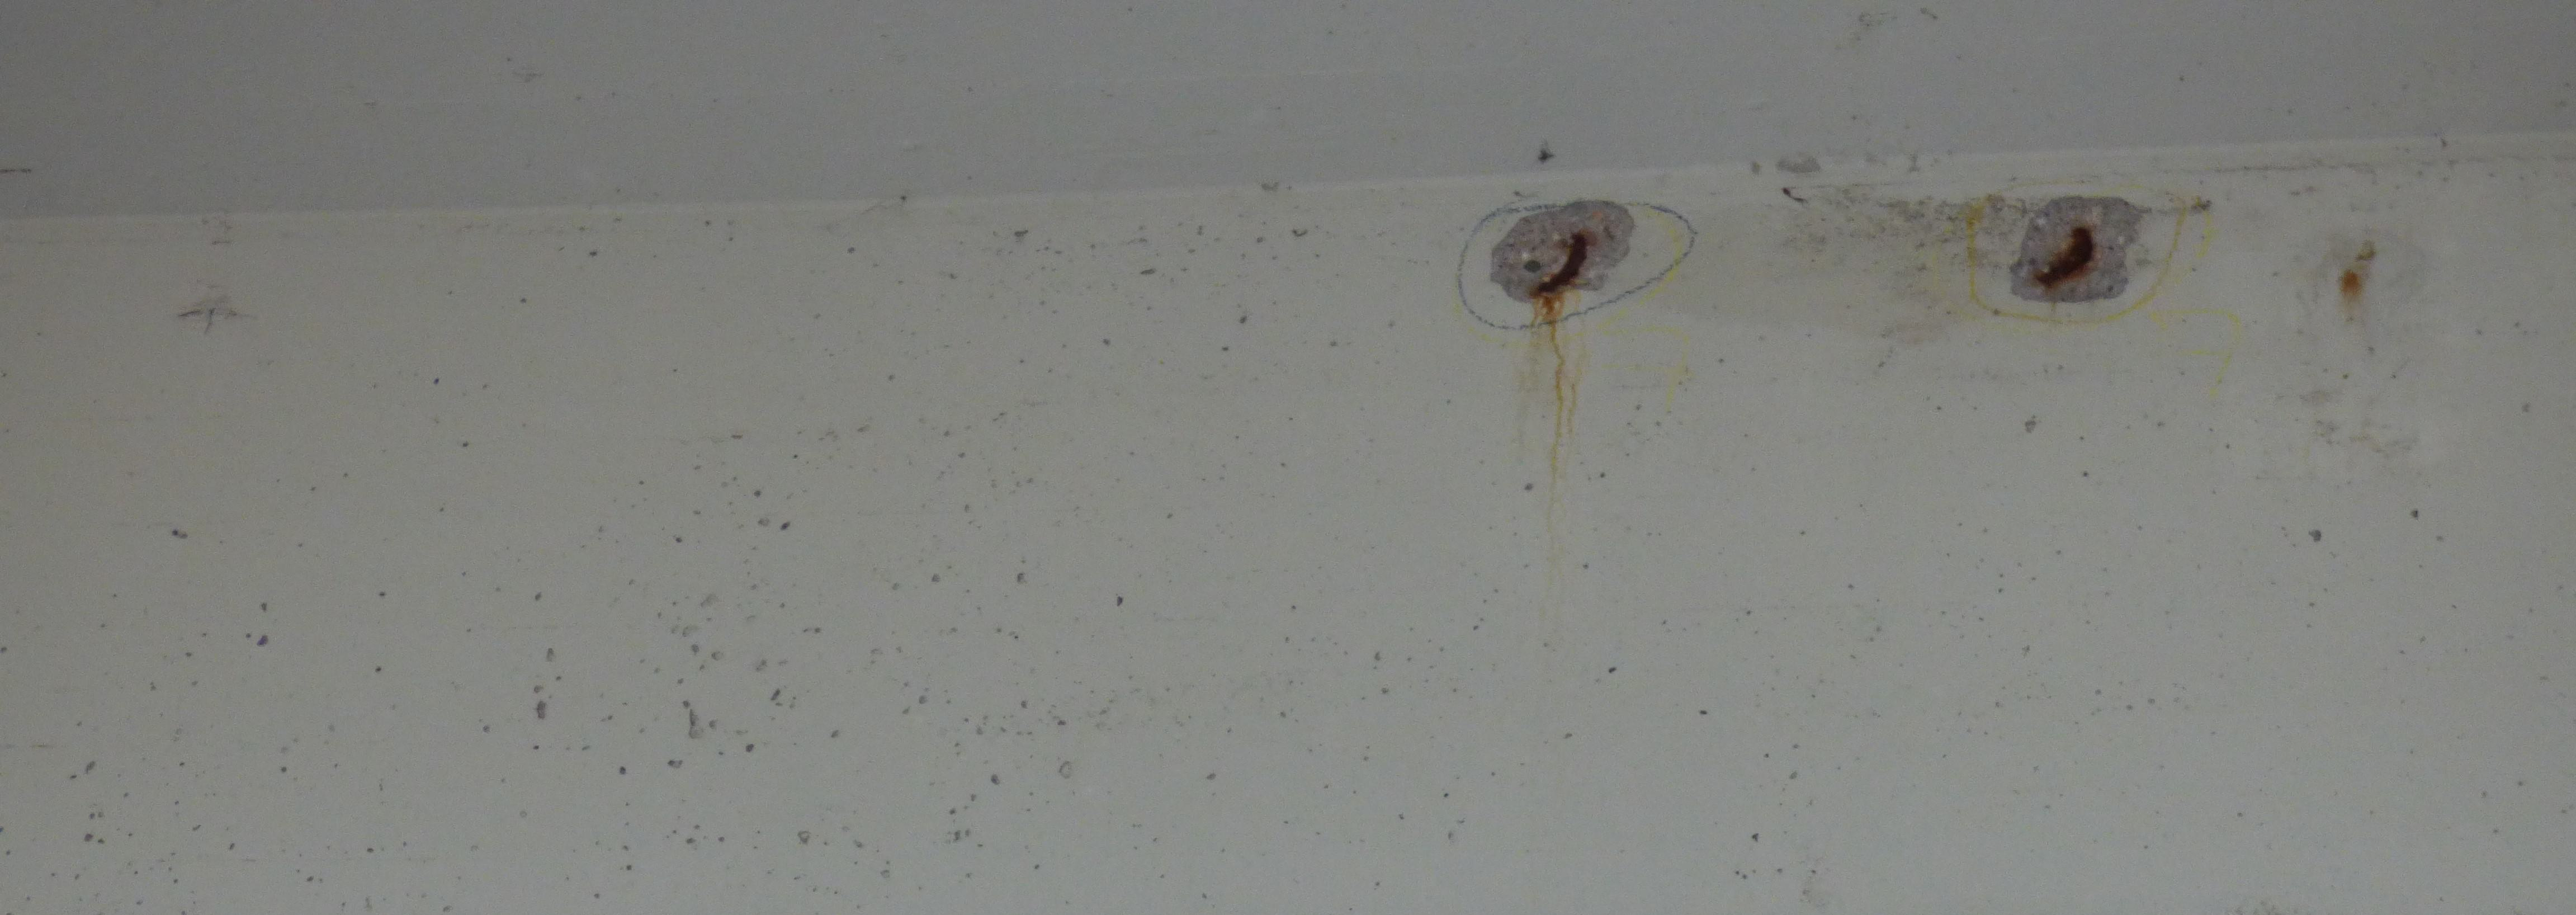Corrosion: (2336, 268, 2364, 314)
Exposed reinforcement: (2035, 227, 2093, 286), (1536, 230, 1589, 294)
Spalling: (1488, 200, 1635, 306), (2009, 195, 2146, 304)
